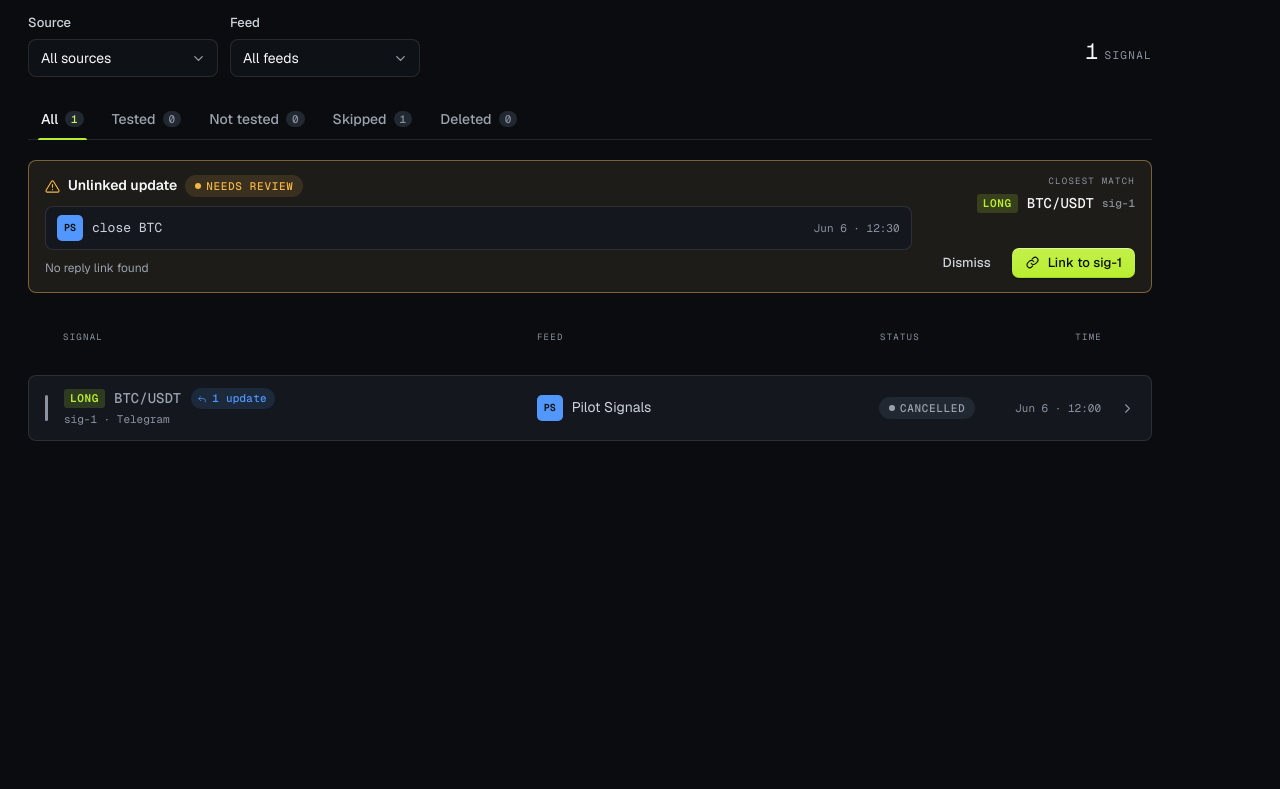
SignalsView › keeps the cancelled badge and timeline for a pre-entry cancellation
Click the button "BTC/USDT". click: (590, 408)
box: x1=28 y1=375 x2=1152 y2=441
(page scrolled)
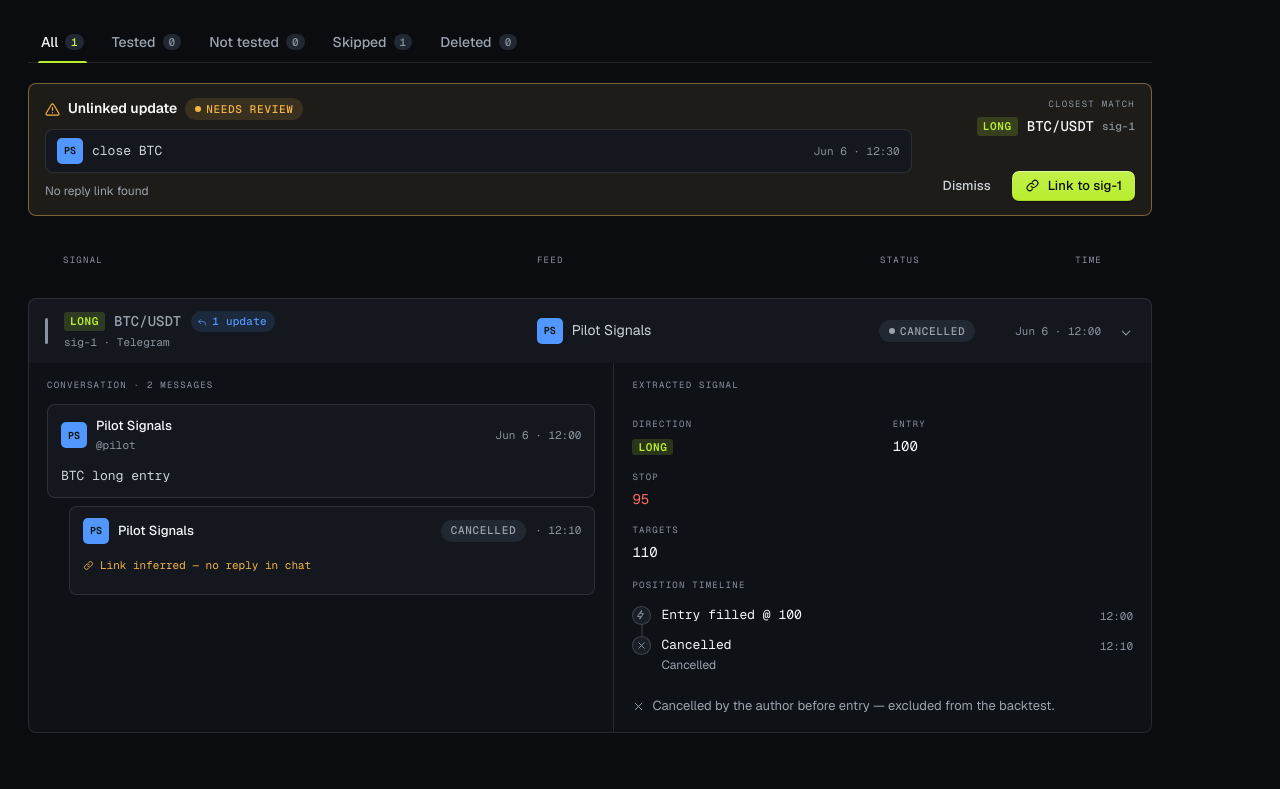
Check: the text "Position timeline" is shown, box x1=632 y1=579 x2=746 y2=591
Check: the text "Cancelled by the author before" is shown, box x1=652 y1=697 x2=1054 y2=714
